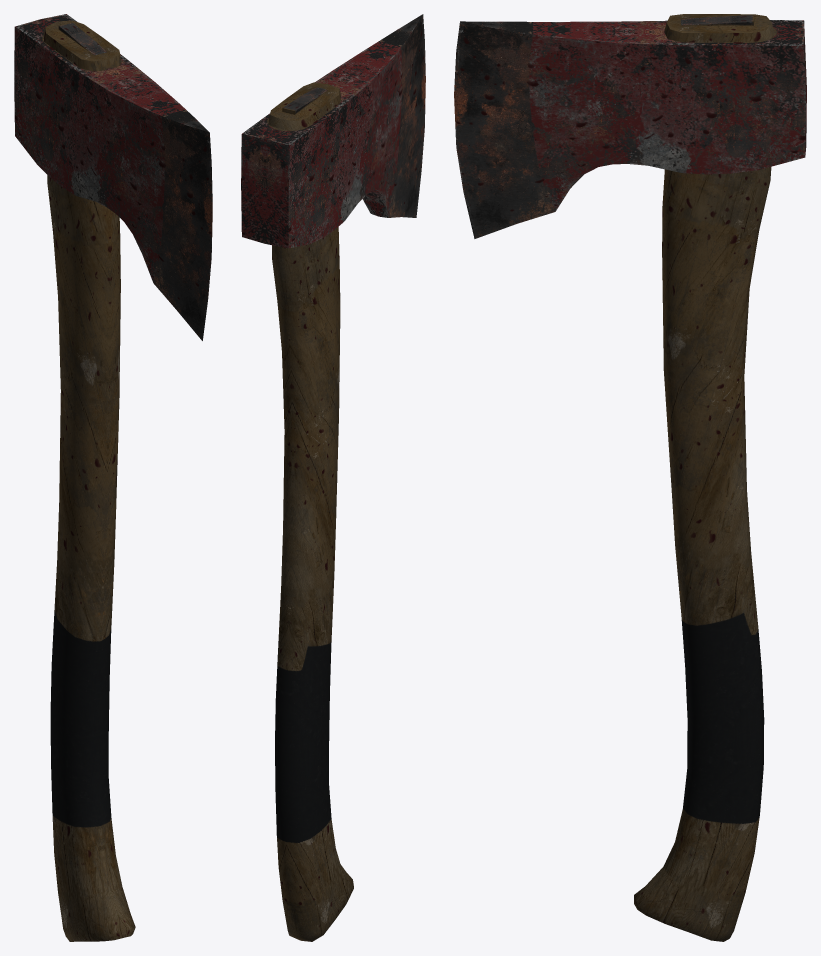
Rendered from Hatchet.obj.
The picture shows the model from 3 angles, left to right: view 1: azimuth 30°, elevation 25°; view 2: azimuth 150°, elevation 25°; view 3: azimuth 270°, elevation 25°; orthographic projection. The views are drawn at different scales.
Visible parts, largest first — view 1: Hatchet_Mesh; view 2: Hatchet_Mesh; view 3: Hatchet_Mesh.
Boxes of the visible parts, x1=… form: Hatchet_Mesh: x1=14, y1=14, x2=212, y2=941; Hatchet_Mesh: x1=241, y1=14, x2=425, y2=941; Hatchet_Mesh: x1=454, y1=14, x2=806, y2=941.
Bounding box in the file's own units: 6.81 × 113 × 39.5.
Materials: 1 (1 with a texture image).
